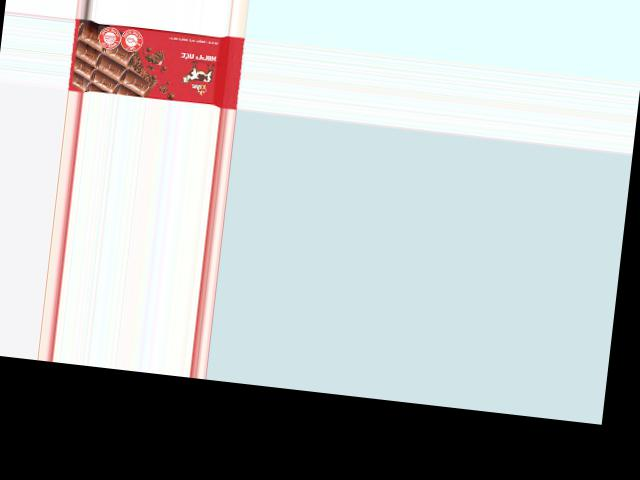chocolate: (68, 17, 242, 108)
